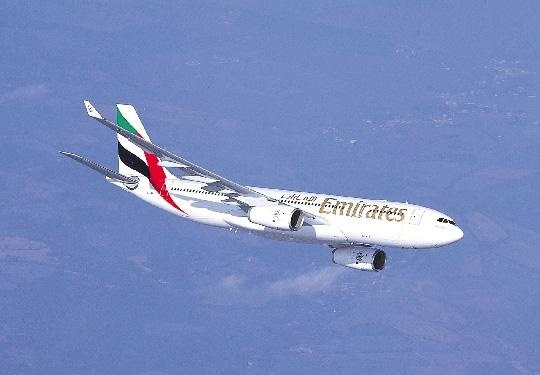airplane: (51, 96, 476, 276)
